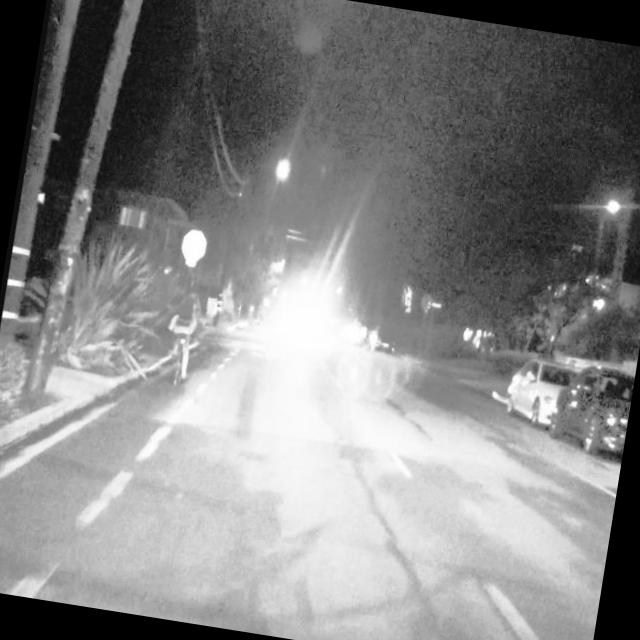Tree: (17, 0, 163, 415)
